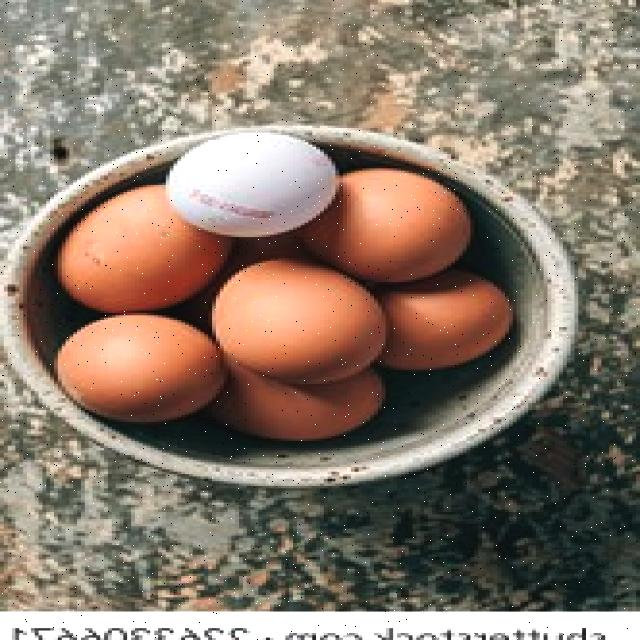Brown Egg: (210, 258, 391, 388), (53, 181, 210, 312), (300, 171, 478, 286), (53, 314, 221, 420), (379, 268, 532, 378)
White Egg: (162, 126, 352, 233)
